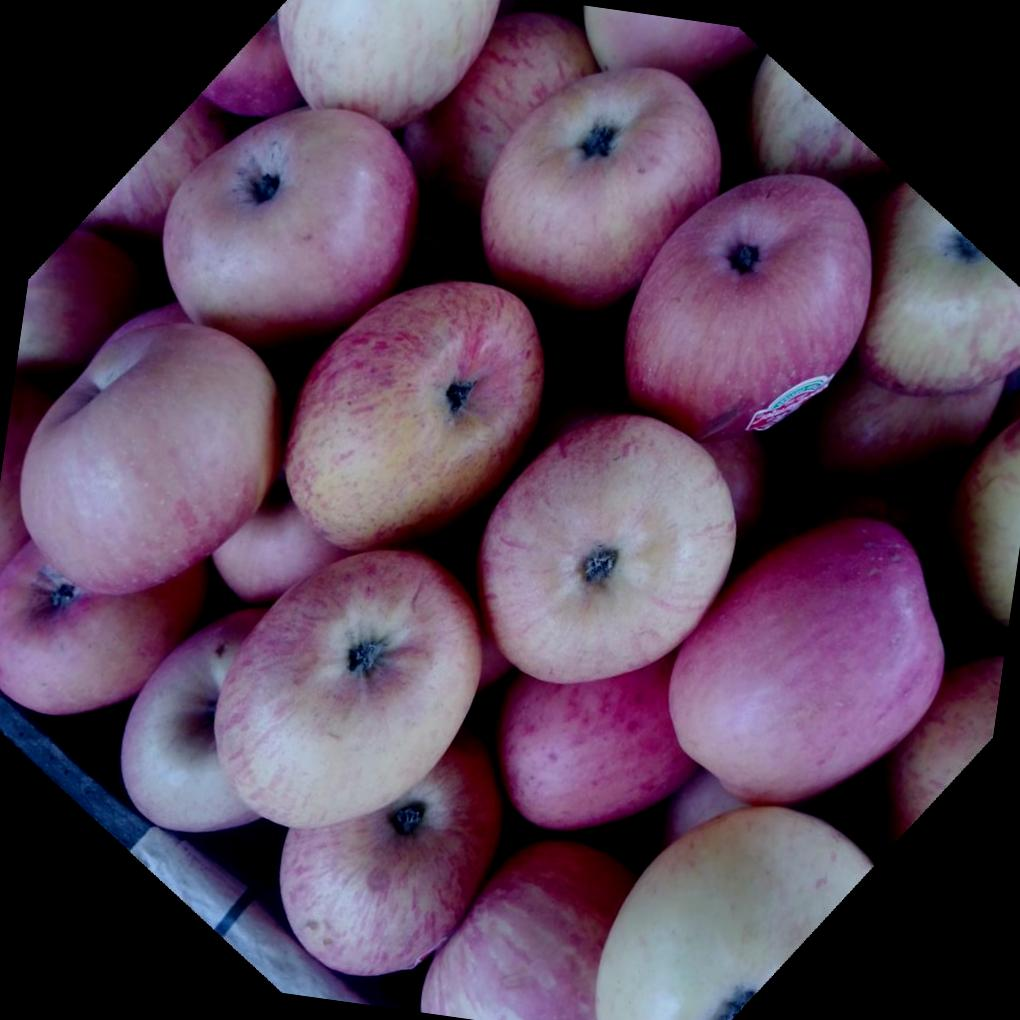FreshGuava: (0, 38, 1020, 1020)
